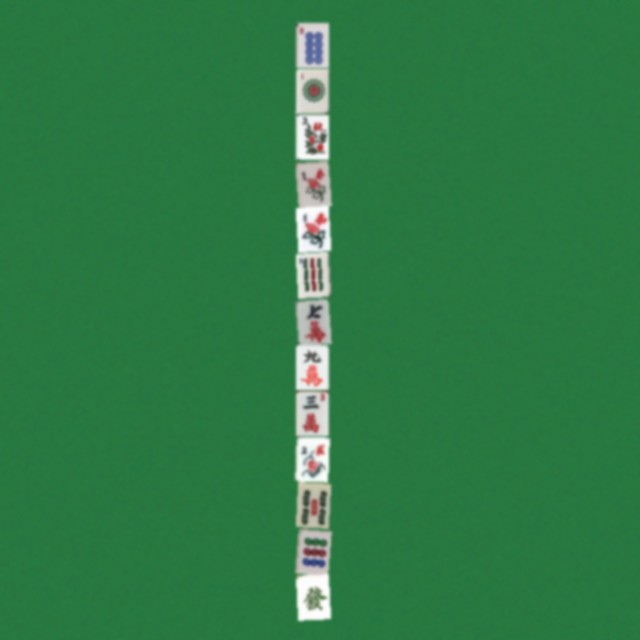tile: (295, 22, 328, 67), (295, 68, 328, 113), (295, 114, 328, 159), (295, 160, 328, 205), (295, 206, 328, 251), (295, 252, 328, 297), (295, 298, 328, 343), (295, 344, 328, 389), (295, 390, 328, 435), (295, 436, 328, 481), (295, 482, 328, 527), (295, 528, 328, 573), (295, 574, 328, 619)
